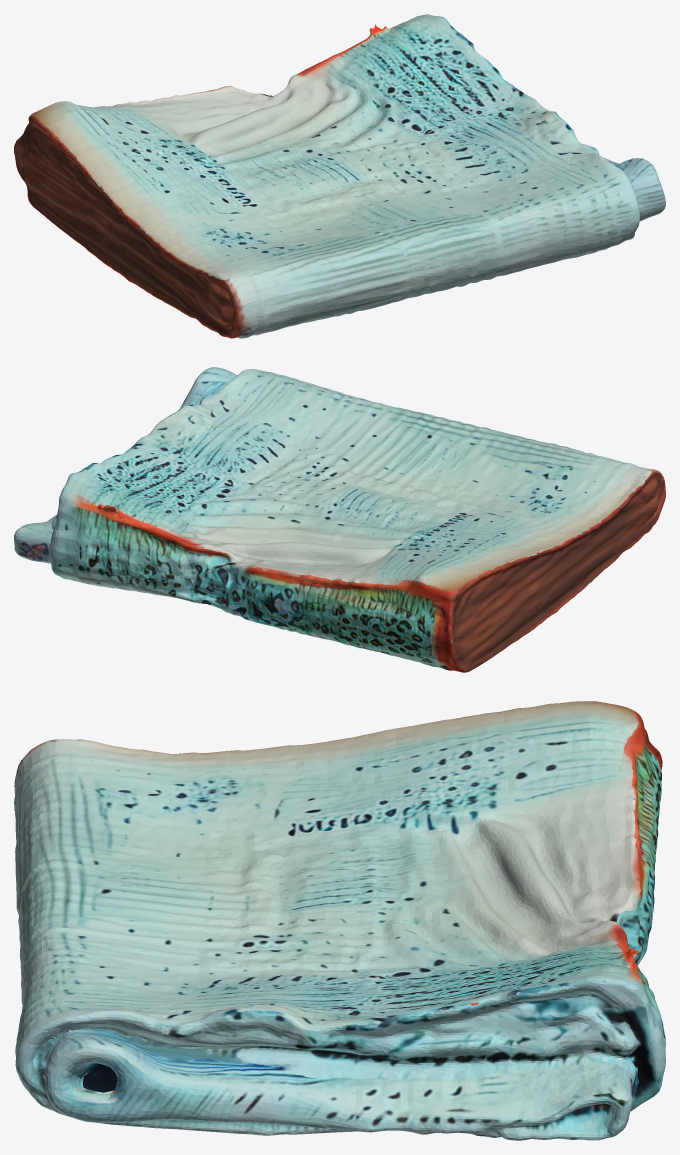
File: image_0000_segmented.glb
3 views of the same model, one above another, from view 1: azimuth 30°, elevation 25°; view 2: azimuth 150°, elevation 25°; view 3: azimuth 270°, elevation 25° (orthographic). The views are drawn at different scales.
Parts seen in each view (by area): view 1: tmpi0filmcd.ply; view 2: tmpi0filmcd.ply; view 3: tmpi0filmcd.ply.
Part boxes in pixels (bbox=[...]): tmpi0filmcd.ply: bbox=[14, 14, 665, 338]; tmpi0filmcd.ply: bbox=[14, 367, 665, 672]; tmpi0filmcd.ply: bbox=[14, 701, 665, 1140].
Bounding box in the file's own units: 1.99 × 0.4544 × 1.69.
1 material, 1 textured.
